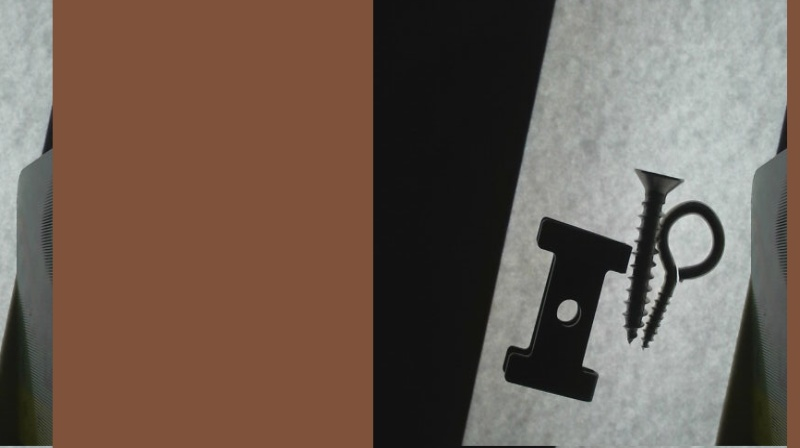O001: (638, 197, 728, 354)
O002: (501, 214, 633, 405)
S001: (623, 162, 688, 345)
